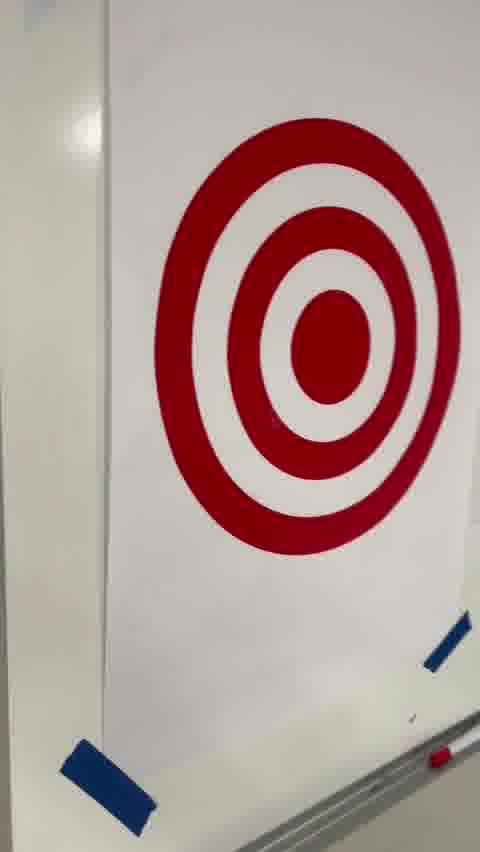target_red: (153, 119, 464, 558)
